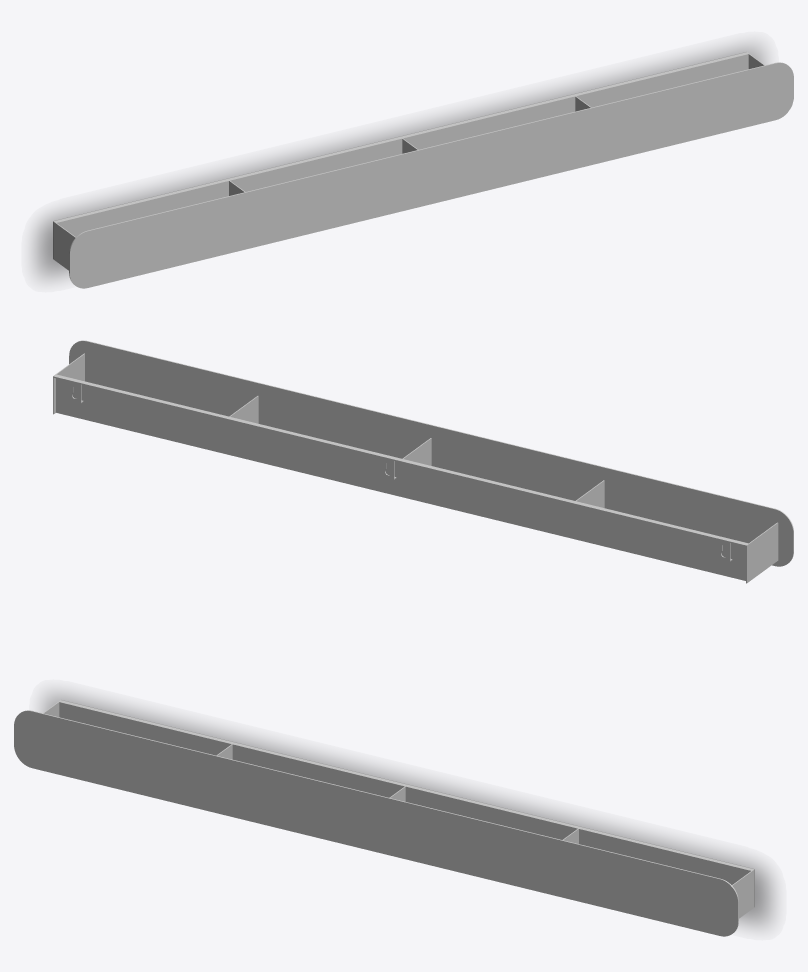
Rendered from radius-mono.2aba1bed86.ar.glb.
3 views of the same model, one above another, from view 1: azimuth 30°, elevation 25°; view 2: azimuth 150°, elevation 25°; view 3: azimuth 330°, elevation 25° (orthographic).
Visible parts, largest first — view 1: NAUO1, object 2; view 2: NAUO1; view 3: NAUO1, object 2.
Part boxes in pixels (bbox=[...]): NAUO1: bbox=[53, 52, 793, 288]; object 2: bbox=[33, 45, 766, 278]; NAUO1: bbox=[53, 340, 793, 583]; NAUO1: bbox=[14, 700, 754, 936]; object 2: bbox=[41, 693, 774, 926].
Size of the model in its own units: 1.28 by 0.17 by 0.092.
2 materials, 1 textured.
